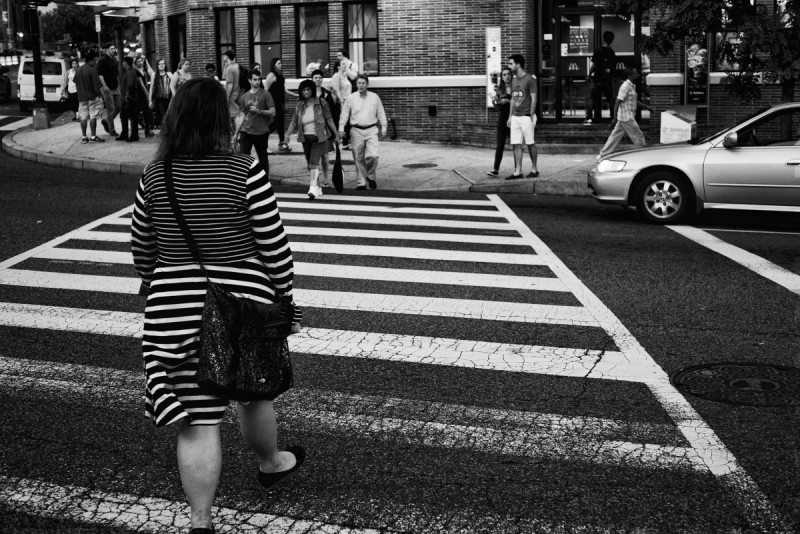Car: (568, 104, 800, 222)
Crosswalk: (285, 194, 670, 513)
Person: (109, 73, 303, 529), (284, 78, 340, 198), (494, 54, 542, 184), (336, 74, 387, 192), (609, 67, 653, 140)
